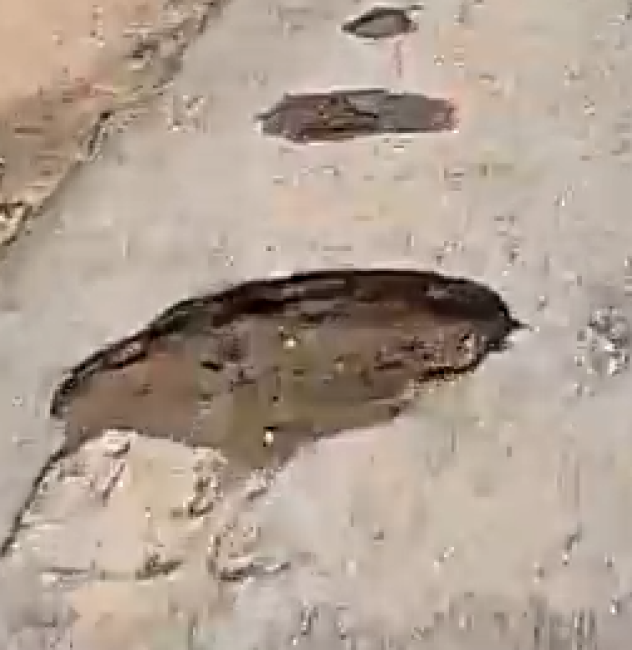Berlubang: (41, 267, 529, 476), (243, 85, 470, 152), (331, 6, 433, 46)
